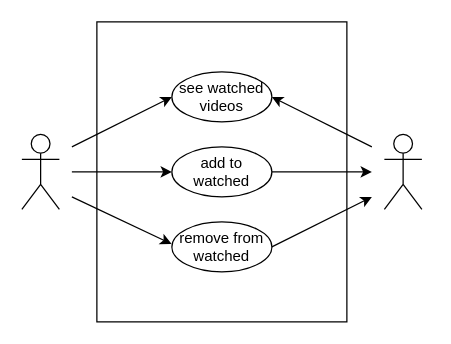
Some shapes in this 451 by 344 pixel diagram are drawn without their labels. Here are the shapes that lost their labels. From the top down, the centre of each, then its label:
At (40,171): "User".
At (402,171): "Chrome Storage".
